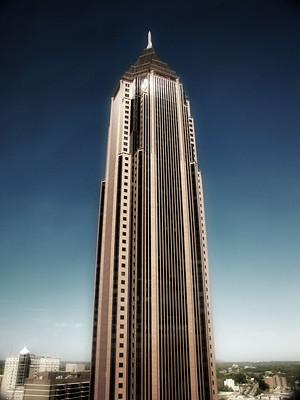building: (88, 44, 221, 400)
